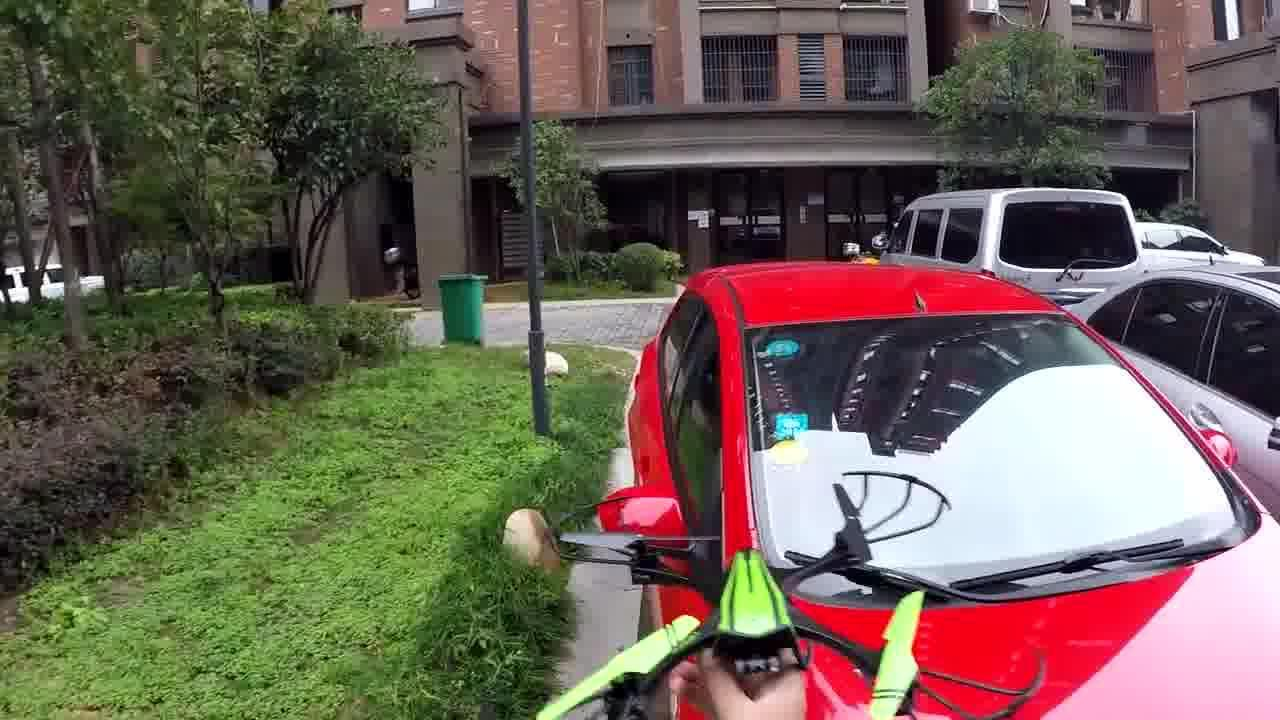drone: (524, 466, 1048, 718)
